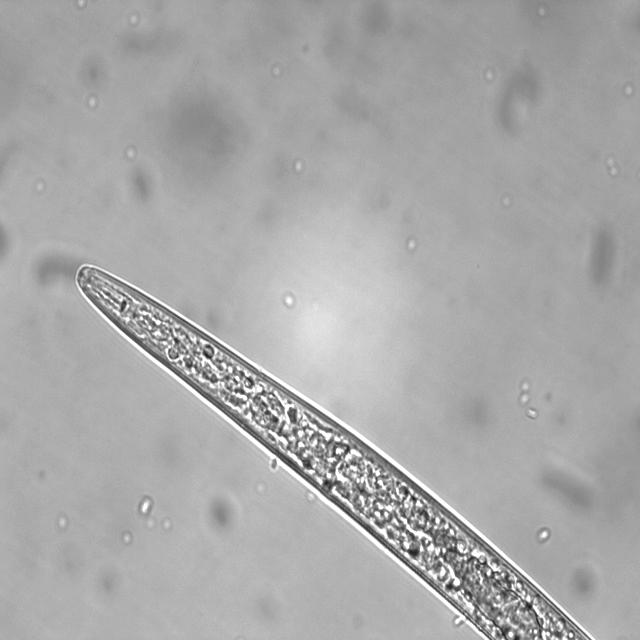Meloidogyne: (68, 256, 640, 640)
